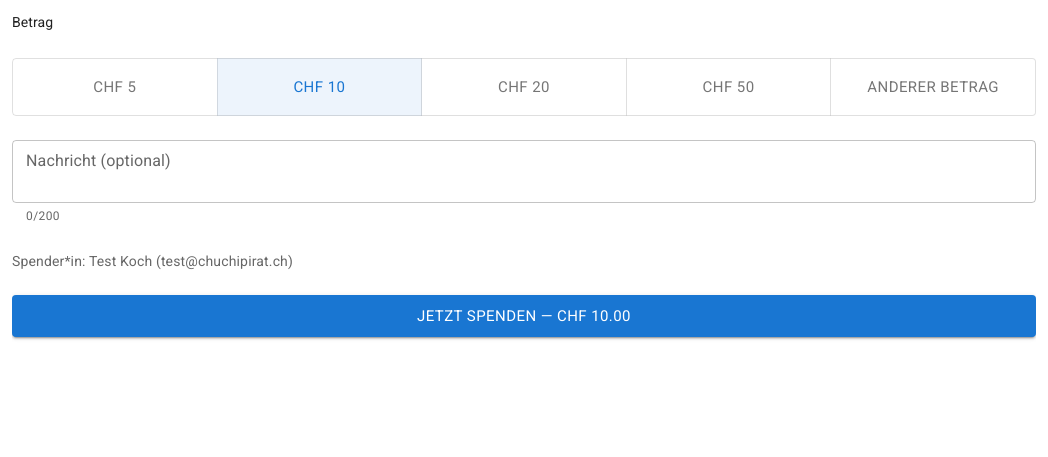
Scenario: DonationForm › Custom-Betrag › Klick auf 'Anderer Betrag' zeigt Custom-Feld und deselektiert Presets
The image size is (1048, 457).
# Zuerst «Anderer Betrag» anklicken, damit das Custom-Feld erscheint
Step 1. Click the button "Anderer Betrag" → click(933, 87), box [830, 58, 1036, 116]
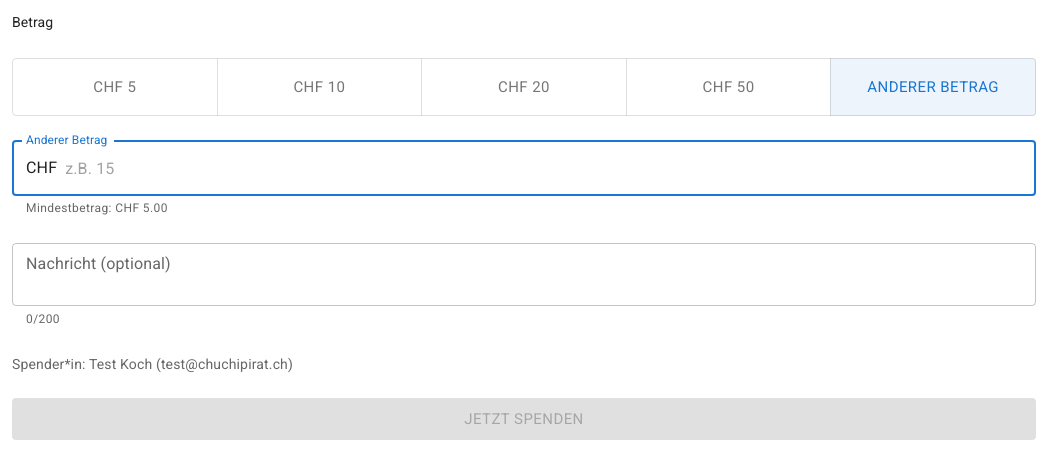
Check: the field with placeholder "z.B. 15" is shown, box [65, 140, 1036, 196]
